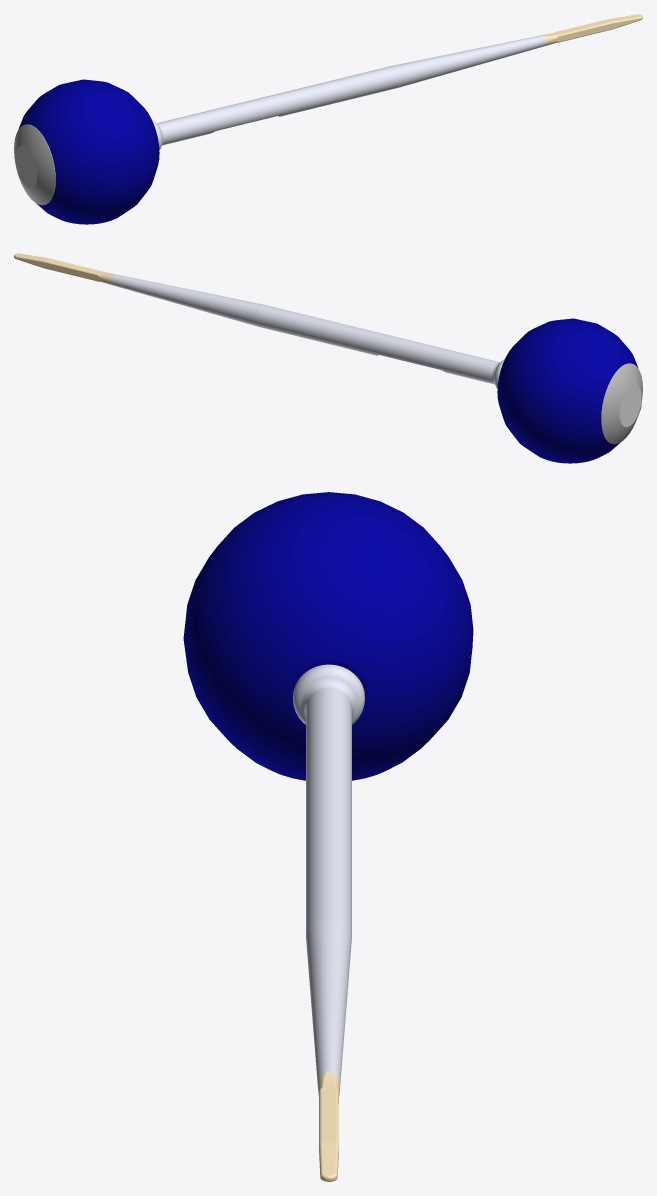
Rendered from Andy - 01-0007P0_A.fbx.
The picture shows the model from 3 angles, top to bottom: view 1: azimuth 30°, elevation 25°; view 2: azimuth 150°, elevation 25°; view 3: azimuth 270°, elevation 25°; orthographic projection. The views are drawn at different scales.
Visible parts, largest first — view 1: Object.002, Object.003, Object.006, Object, Object.005; view 2: Object.002, Object.003, Object.006, Object, Object.005; view 3: Object.002, Object.003, Object.
Boxes of the visible parts, x1,y1,x2,y2 form: Object.002: [18, 79, 159, 224]; Object.003: [152, 35, 546, 150]; Object.006: [14, 124, 55, 205]; Object: [543, 14, 642, 45]; Object.005: [15, 124, 55, 205]; Object.002: [497, 318, 638, 463]; Object.003: [110, 274, 504, 389]; Object.006: [601, 363, 642, 444]; Object: [14, 253, 113, 284]; Object.005: [601, 363, 641, 443]; Object.002: [183, 492, 473, 780]; Object.003: [293, 664, 364, 1082]; Object: [317, 1073, 340, 1181].
Bounding box in the file's own units: 24.83 × 4.76 × 5.06.
